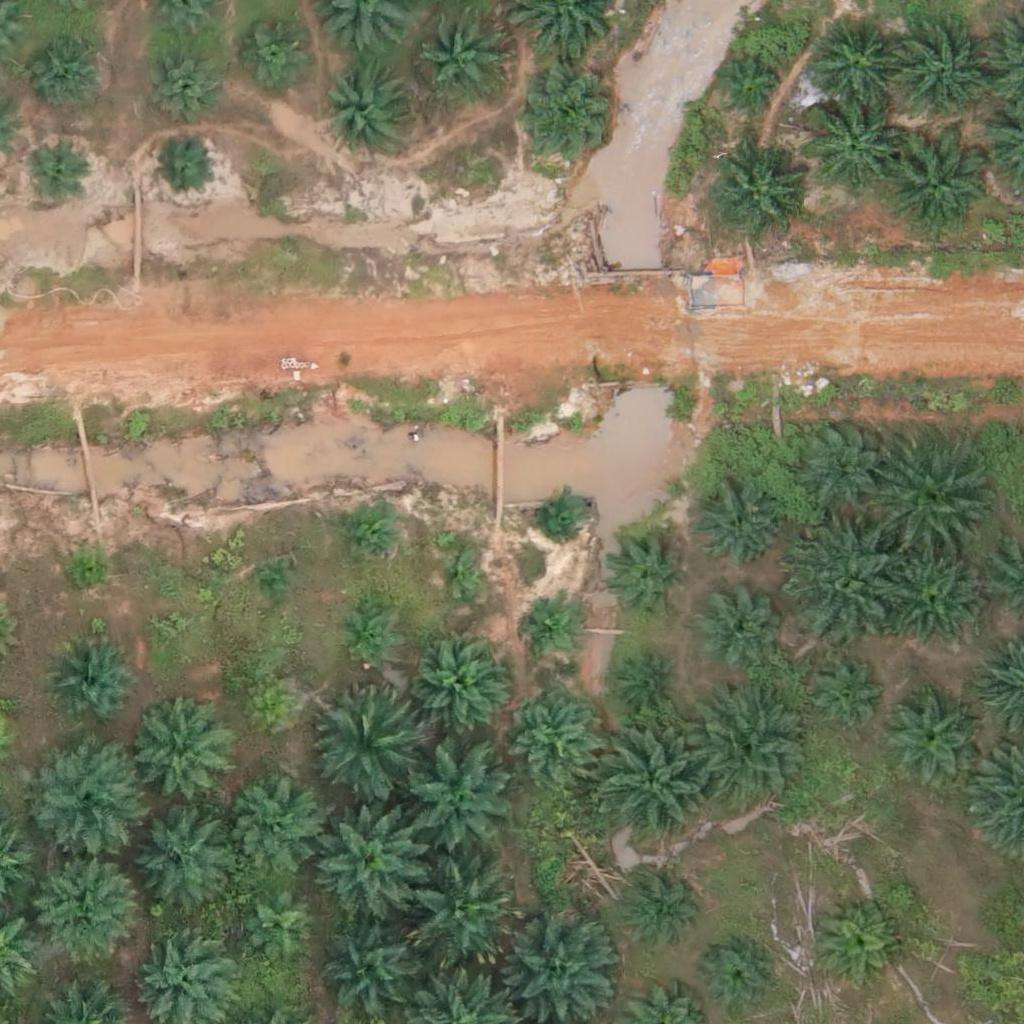Kelapa_Sawit: (694, 697, 807, 811), (599, 720, 712, 833), (398, 744, 511, 857), (307, 684, 420, 797), (312, 816, 425, 929), (880, 131, 993, 244), (28, 739, 140, 853), (876, 447, 988, 560), (786, 526, 898, 639), (409, 861, 521, 974), (882, 545, 982, 646), (788, 412, 888, 513), (135, 707, 235, 808), (33, 864, 133, 965), (891, 26, 991, 127), (806, 17, 906, 118), (708, 143, 808, 244), (516, 71, 616, 172), (883, 687, 983, 787), (414, 636, 514, 736), (229, 777, 329, 877), (136, 814, 236, 914), (801, 97, 901, 197), (48, 636, 136, 724), (137, 41, 225, 129), (694, 483, 781, 572), (801, 653, 888, 741), (694, 582, 781, 670), (510, 686, 597, 774), (604, 530, 691, 618), (814, 903, 901, 991), (422, 16, 509, 104), (324, 65, 411, 153), (32, 31, 107, 107), (698, 941, 773, 1017), (238, 13, 313, 88), (622, 867, 697, 942), (241, 884, 316, 959), (714, 55, 789, 130), (21, 139, 84, 202), (154, 135, 216, 198), (526, 599, 576, 650), (533, 489, 583, 539), (624, 658, 674, 708), (436, 552, 486, 602), (344, 506, 394, 556), (339, 609, 389, 659), (253, 567, 291, 605), (67, 551, 104, 589), (243, 686, 280, 723), (156, 614, 181, 640)
